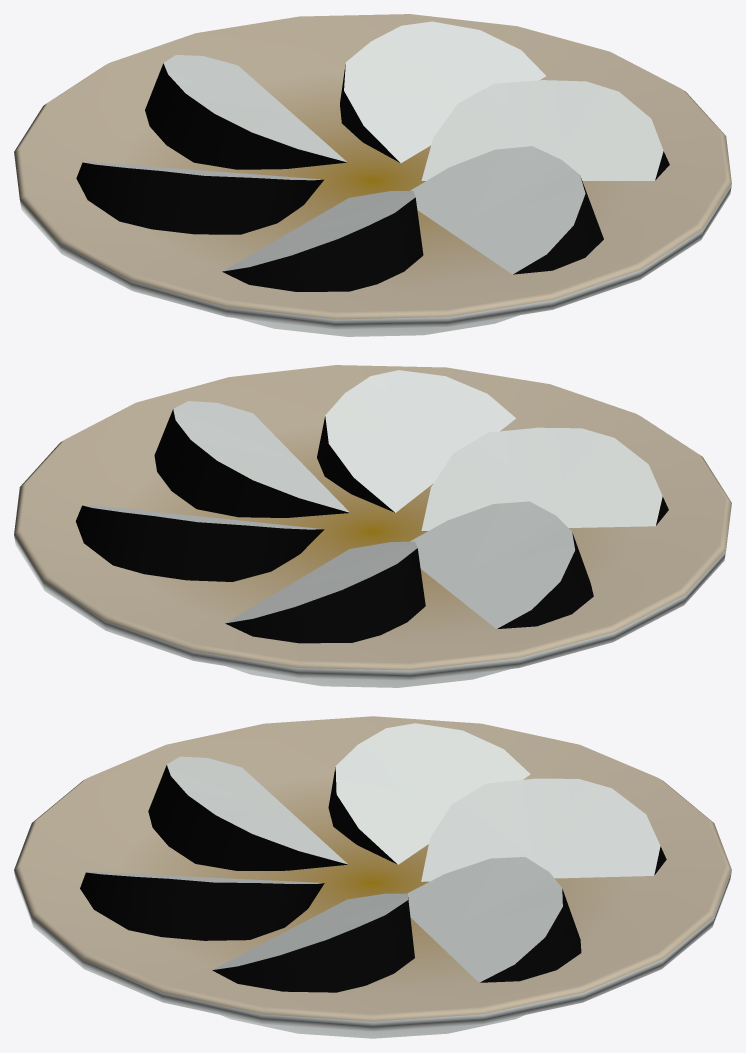
3 views of the same model, one above another, from view 1: azimuth 30°, elevation 25°; view 2: azimuth 150°, elevation 25°; view 3: azimuth 270°, elevation 25° (orthographic).
Parts seen in each view (by area): view 1: G:\FFXIV-MapTools\exports\y6f3\bg\ex5\02_ykt_y6\fld\y6f3\bgp (×4); view 2: G:\FFXIV-MapTools\exports\y6f3\bg\ex5\02_ykt_y6\fld\y6f3\bgp (×4); view 3: G:\FFXIV-MapTools\exports\y6f3\bg\ex5\02_ykt_y6\fld\y6f3\bgp (×4).
Part boxes in pixels (x1,y1,x2,y2): G:\FFXIV-MapTools\exports\y6f3\bg\ex5\02_ykt_y6\fld\y6f3\bgp (×4): (14,14,731,336); G:\FFXIV-MapTools\exports\y6f3\bg\ex5\02_ykt_y6\fld\y6f3\bgp (×4): (14,365,731,687); G:\FFXIV-MapTools\exports\y6f3\bg\ex5\02_ykt_y6\fld\y6f3\bgp (×4): (14,716,731,1038).
Size of the model in its own units: 0.5117 by 0.085 by 0.5117.
